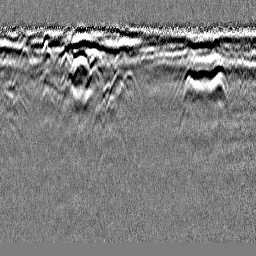cavity: (118, 67, 140, 100)
